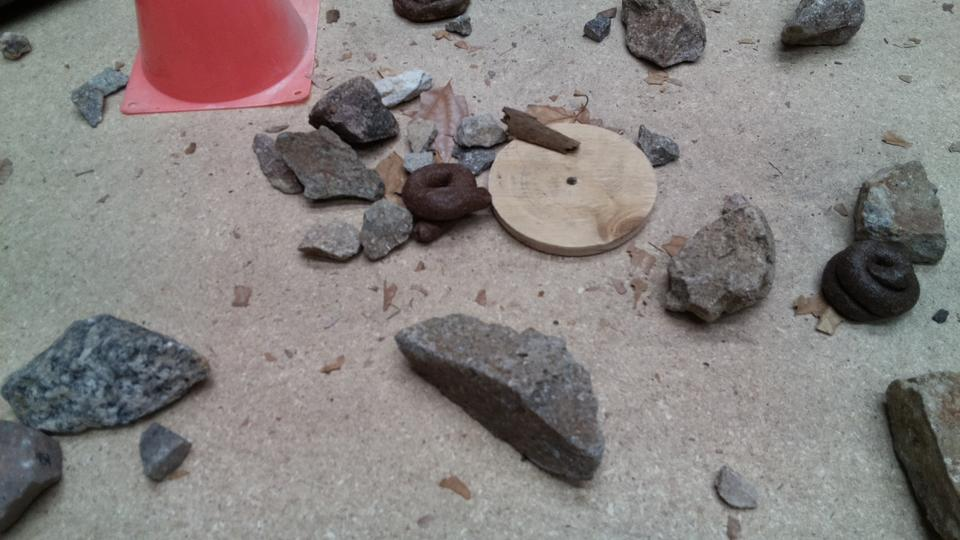poop: (819, 235, 923, 326), (399, 159, 494, 246), (389, 1, 472, 26)
